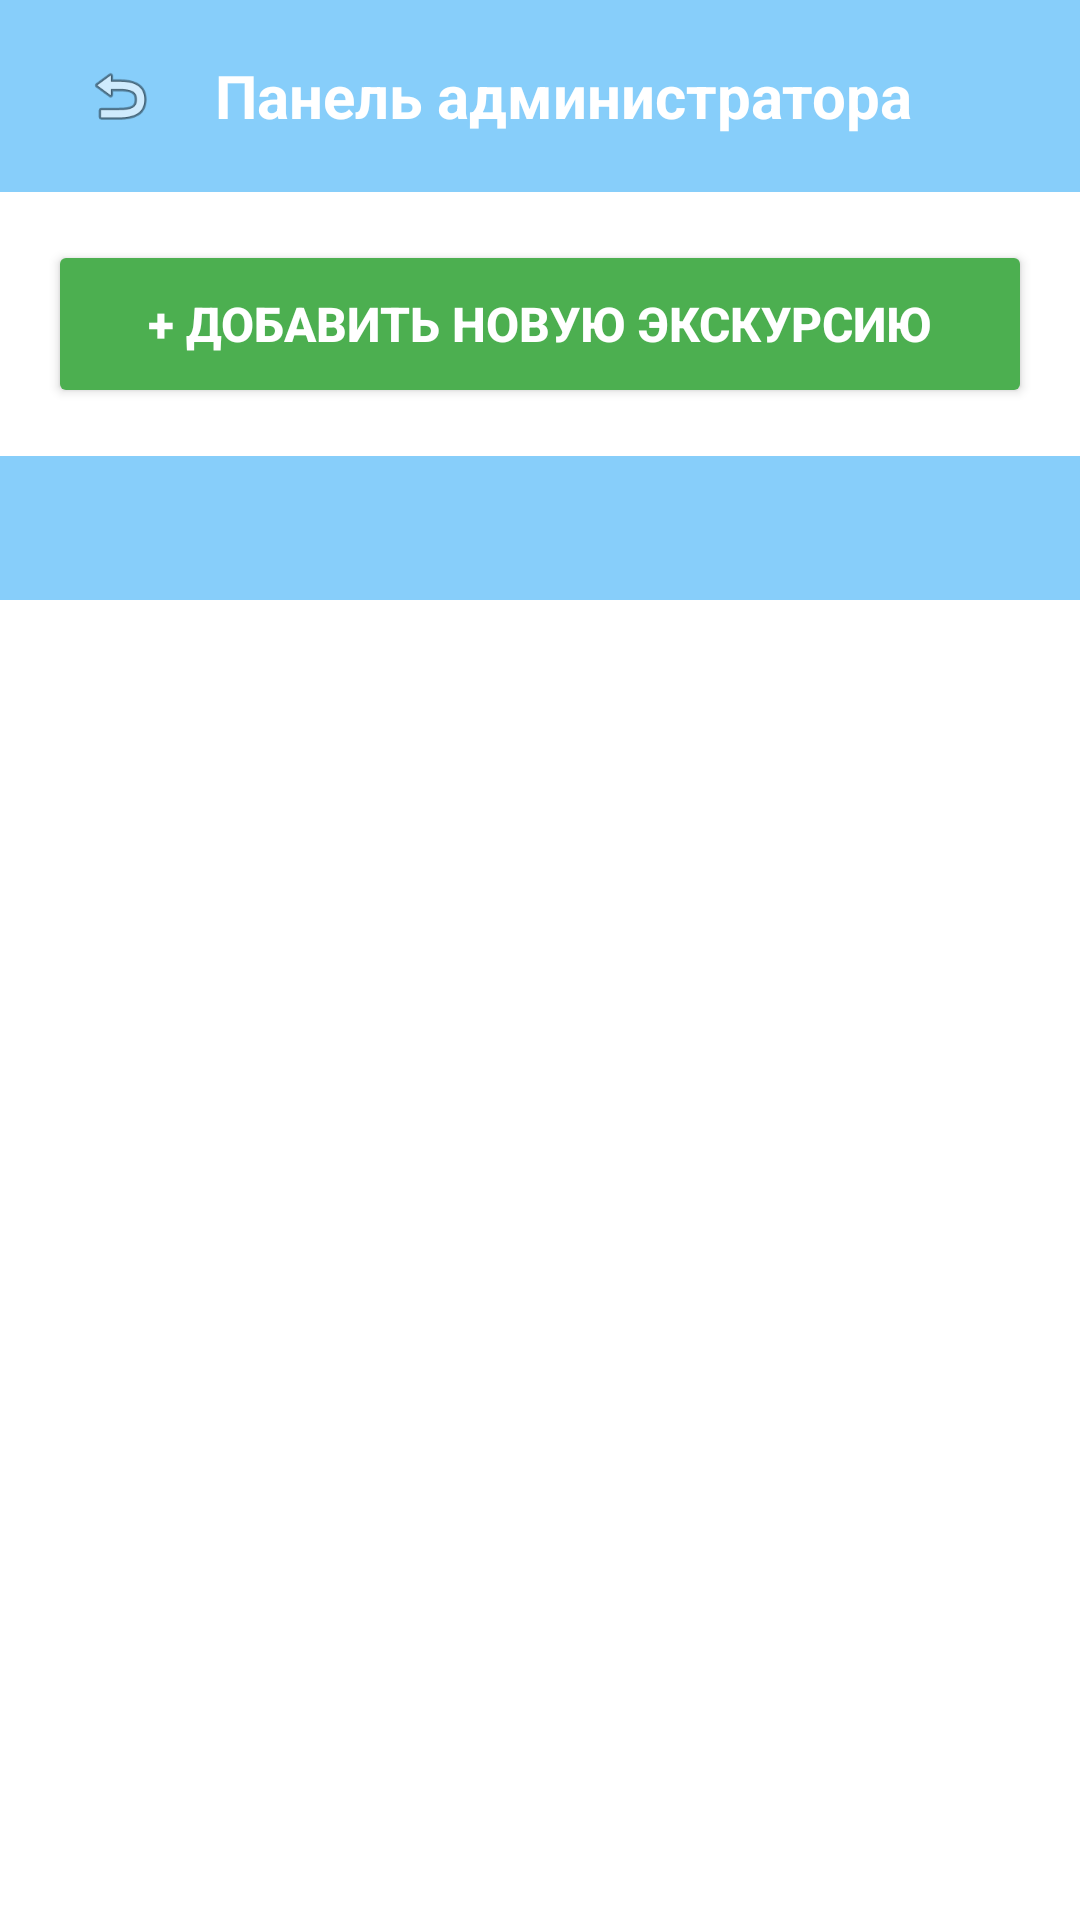

Icon click points for this 1080px×1920px phone screenshot, format (x,y):
Назад: (121,96)
